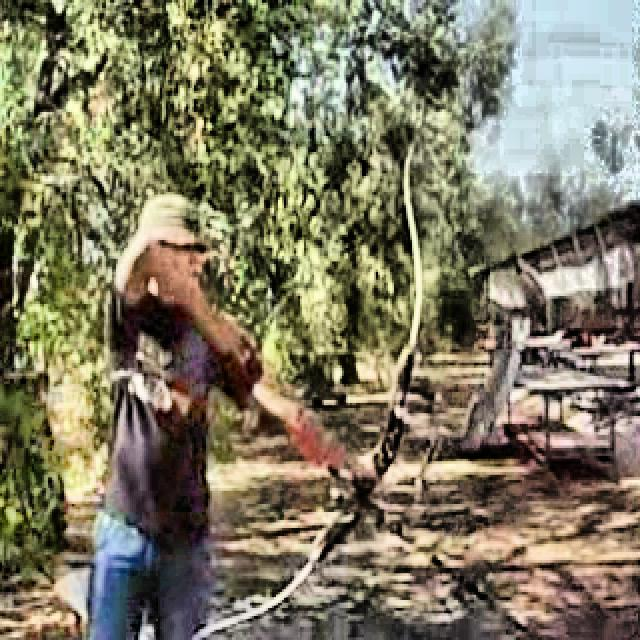I: (64, 159, 372, 640)
